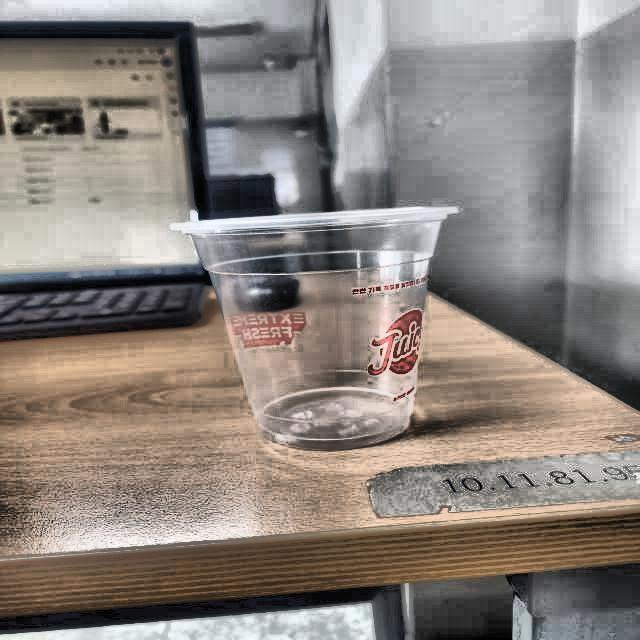plastic cup: (170, 204, 460, 449)
